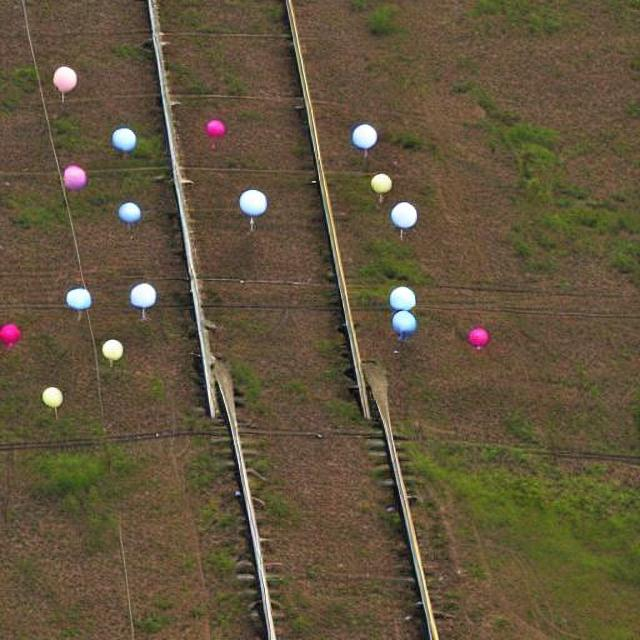balloon: (386, 282, 418, 335), (457, 321, 491, 350), (132, 283, 164, 313), (236, 186, 267, 216), (59, 160, 88, 192), (388, 199, 417, 229), (348, 120, 377, 149), (50, 63, 77, 93), (108, 124, 136, 152), (70, 292, 102, 316), (0, 316, 22, 349), (98, 336, 123, 361), (115, 199, 141, 223), (367, 170, 392, 194), (39, 384, 63, 408), (202, 116, 226, 140)
